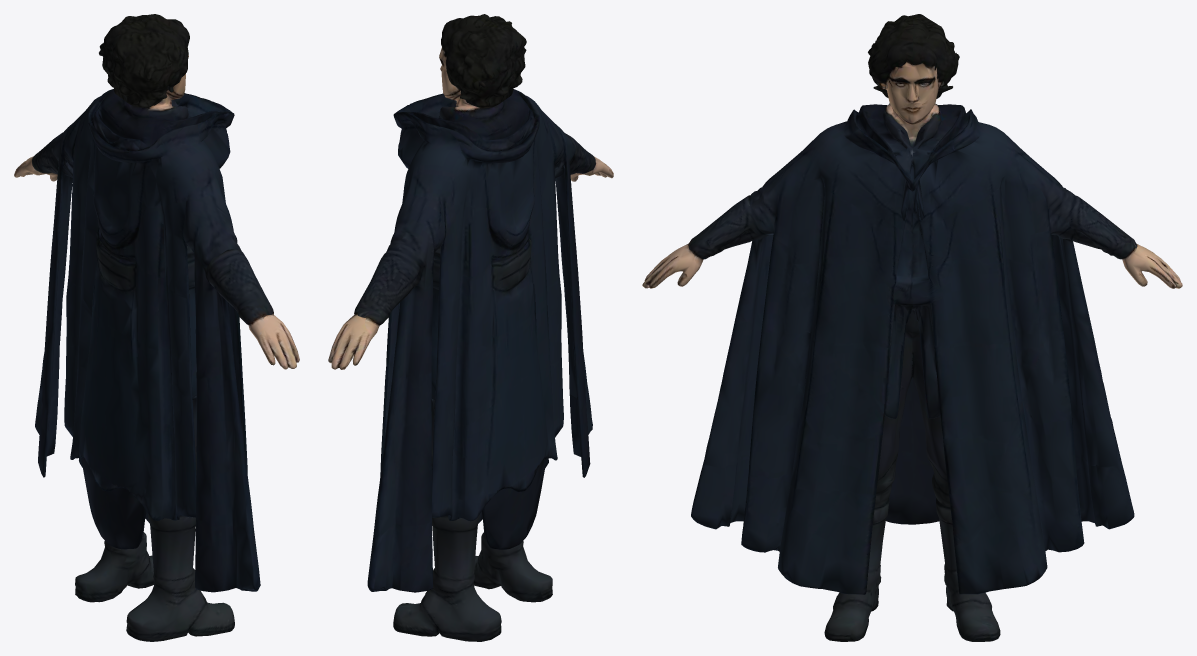
The model's file is male-decimated.glb.
3 views of the same model, side by side, from view 1: azimuth 30°, elevation 25°; view 2: azimuth 150°, elevation 25°; view 3: azimuth 270°, elevation 25° (orthographic).
Parts seen in each view (by area): view 1: tripo_node_82acf45b-6d96-4887-ba4f-38115bb98d20; view 2: tripo_node_82acf45b-6d96-4887-ba4f-38115bb98d20; view 3: tripo_node_82acf45b-6d96-4887-ba4f-38115bb98d20.
Boxes of the visible parts, x1=… form: tripo_node_82acf45b-6d96-4887-ba4f-38115bb98d20: x1=14, y1=14, x2=299, y2=641; tripo_node_82acf45b-6d96-4887-ba4f-38115bb98d20: x1=328, y1=14, x2=613, y2=641; tripo_node_82acf45b-6d96-4887-ba4f-38115bb98d20: x1=642, y1=14, x2=1182, y2=641.
Bounding box in the file's own units: 0.2335 × 0.9998 × 0.8169.
Materials: 1 (1 with a texture image).
